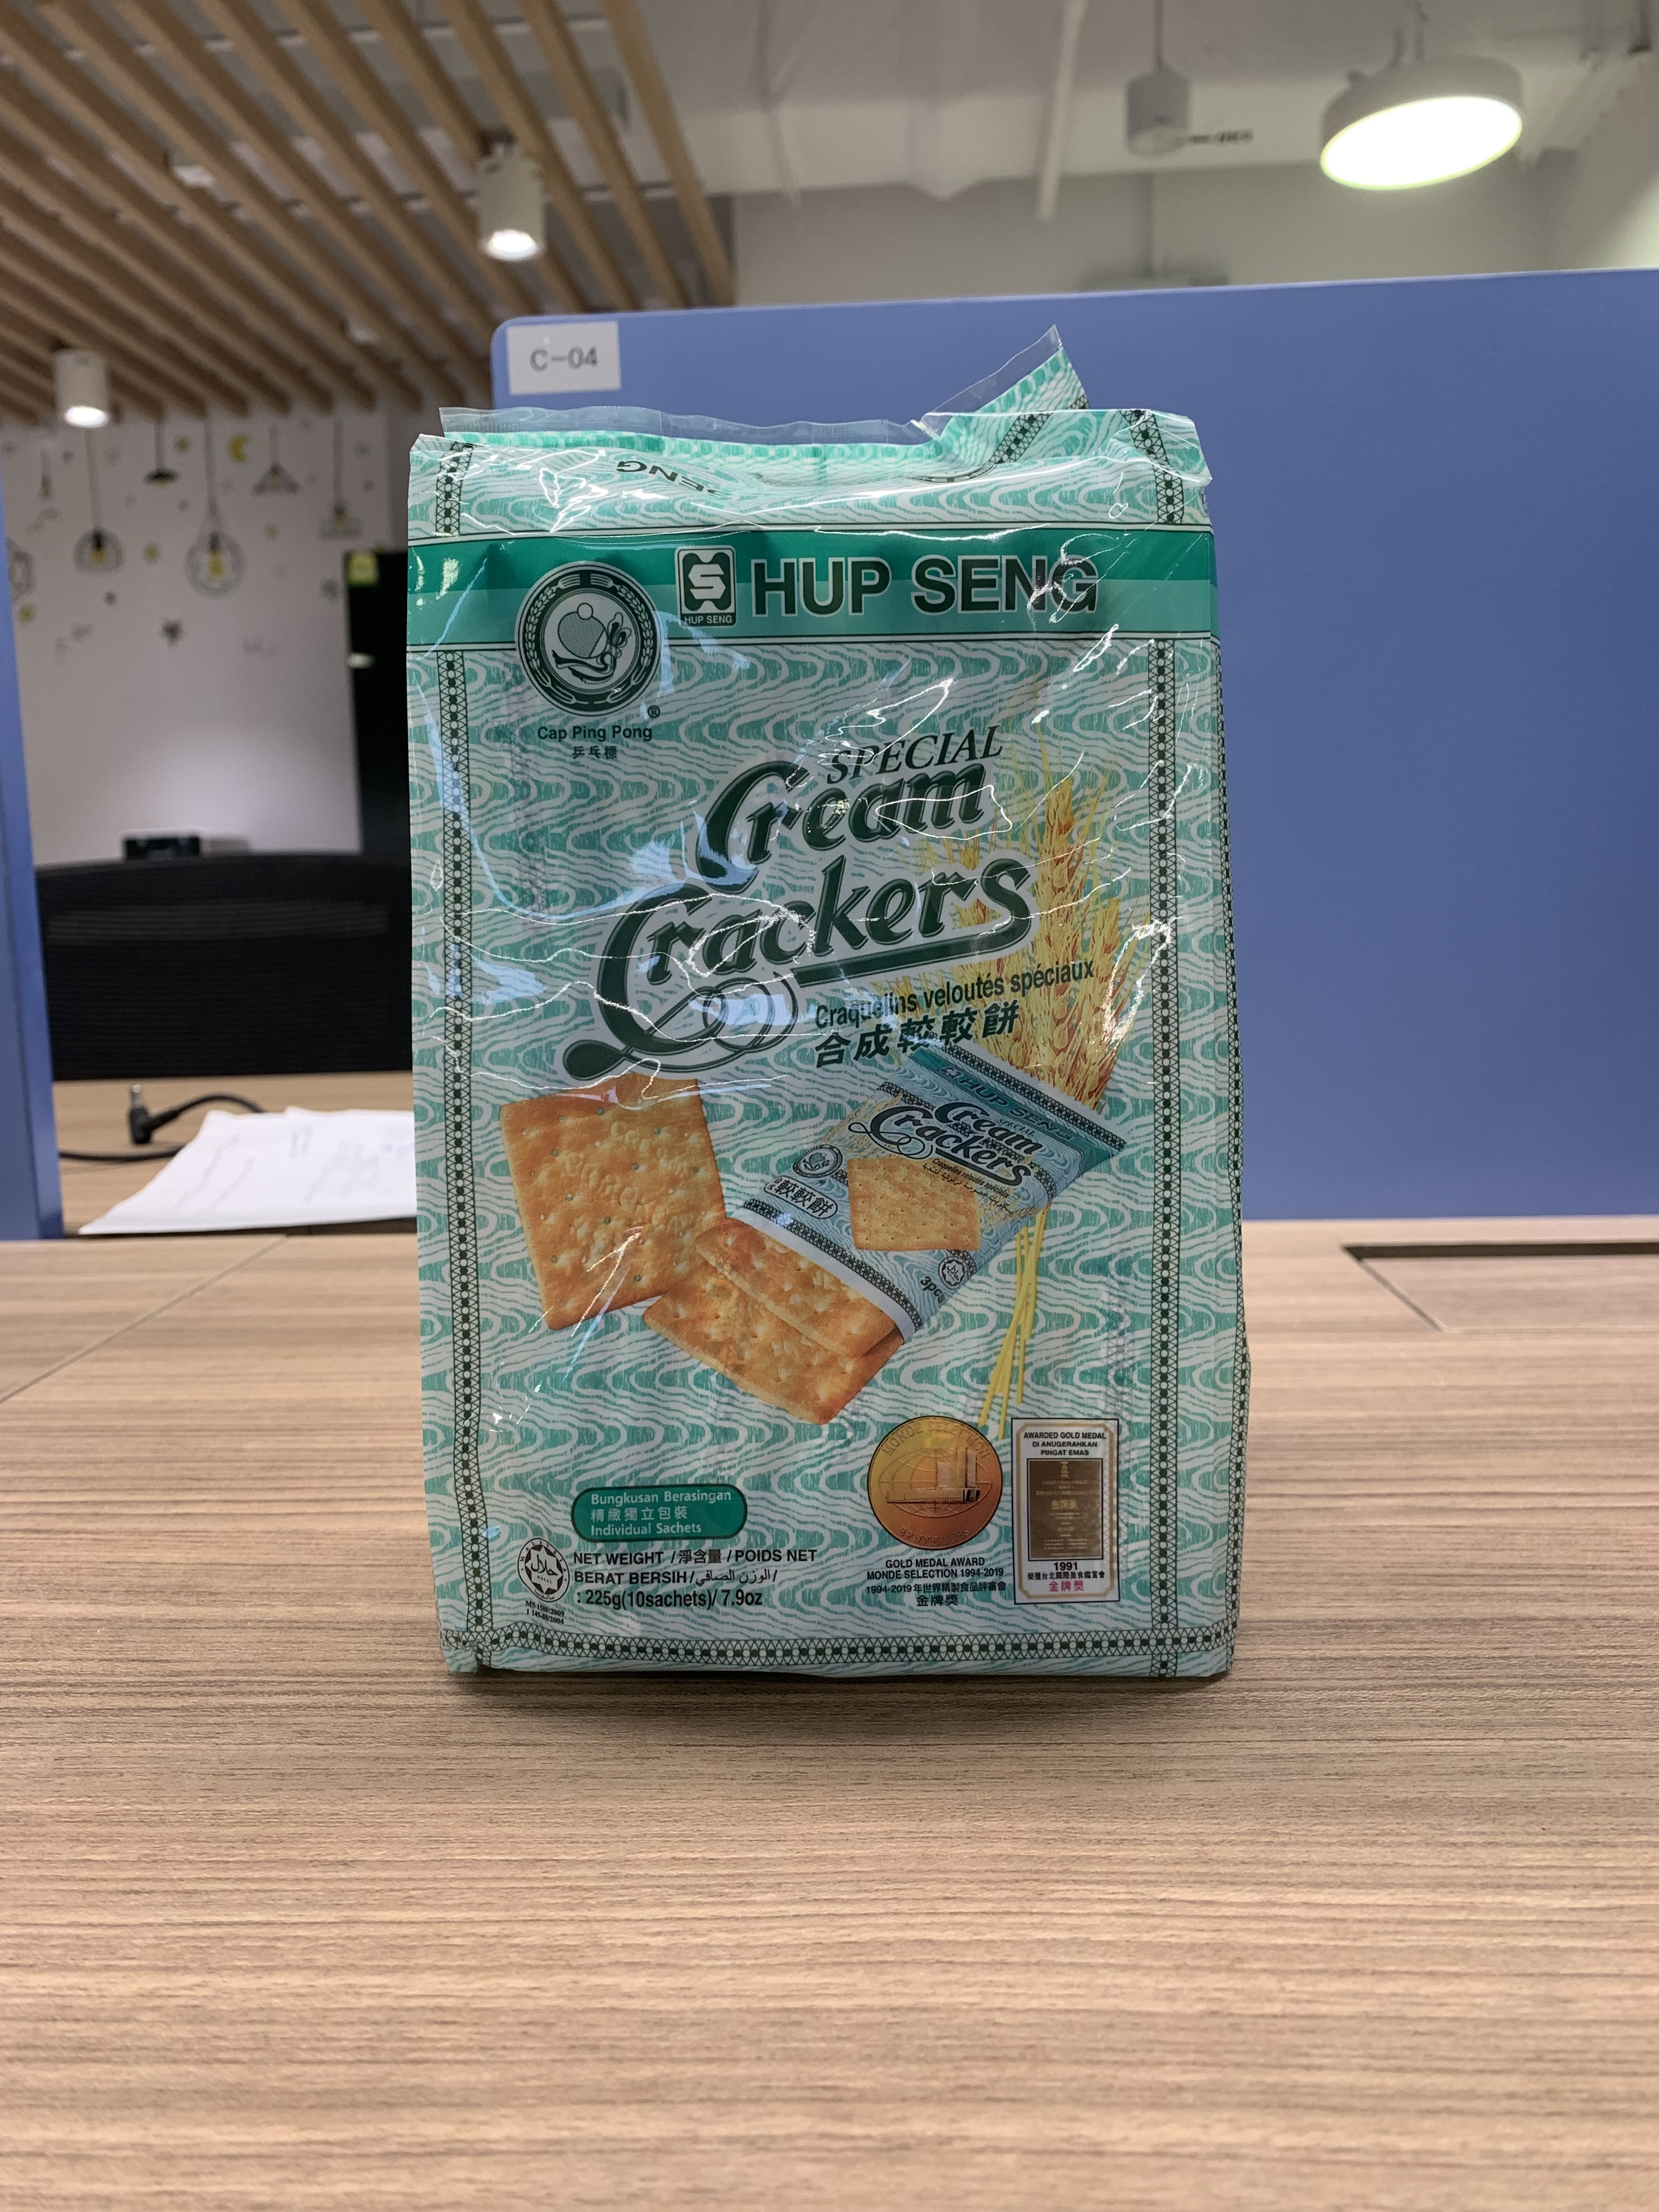crackers: (357, 326, 1277, 1709)
